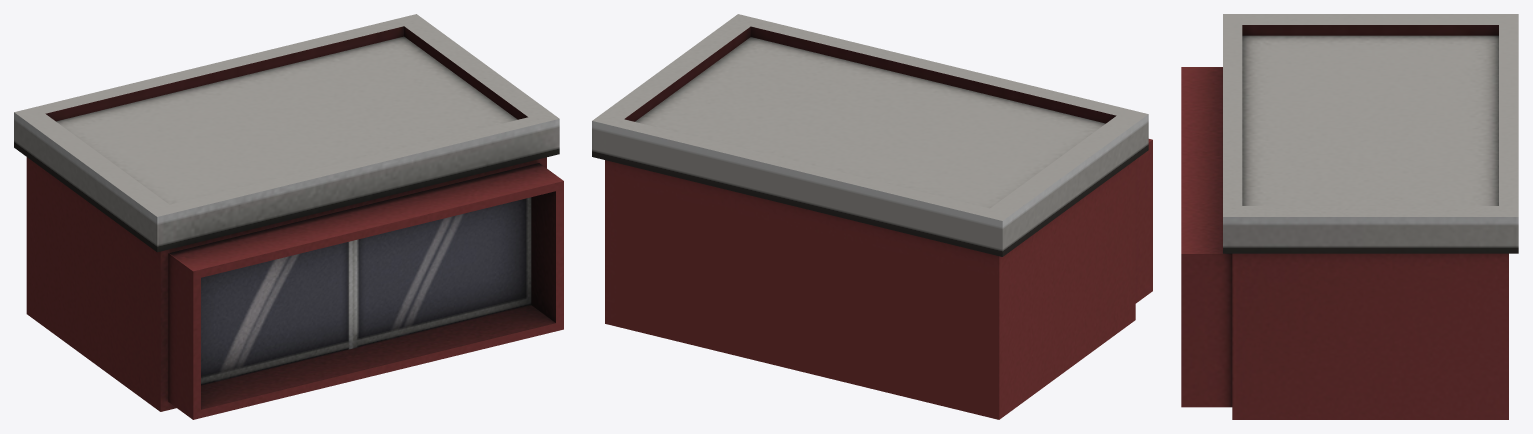
The model's file is House_Modern.FBX.
3 views of the same model, side by side, from view 1: azimuth 30°, elevation 25°; view 2: azimuth 150°, elevation 25°; view 3: azimuth 270°, elevation 25° (orthographic). The views are drawn at different scales.
Visible parts, largest first — view 1: Base004; view 2: Base004; view 3: Base004.
Boxes of the visible parts, <box> form: Base004: <box>14,14,563,419</box>; Base004: <box>592,14,1152,419</box>; Base004: <box>1181,14,1518,419</box>.
Size of the model in its own units: 521 by 248 by 366.
